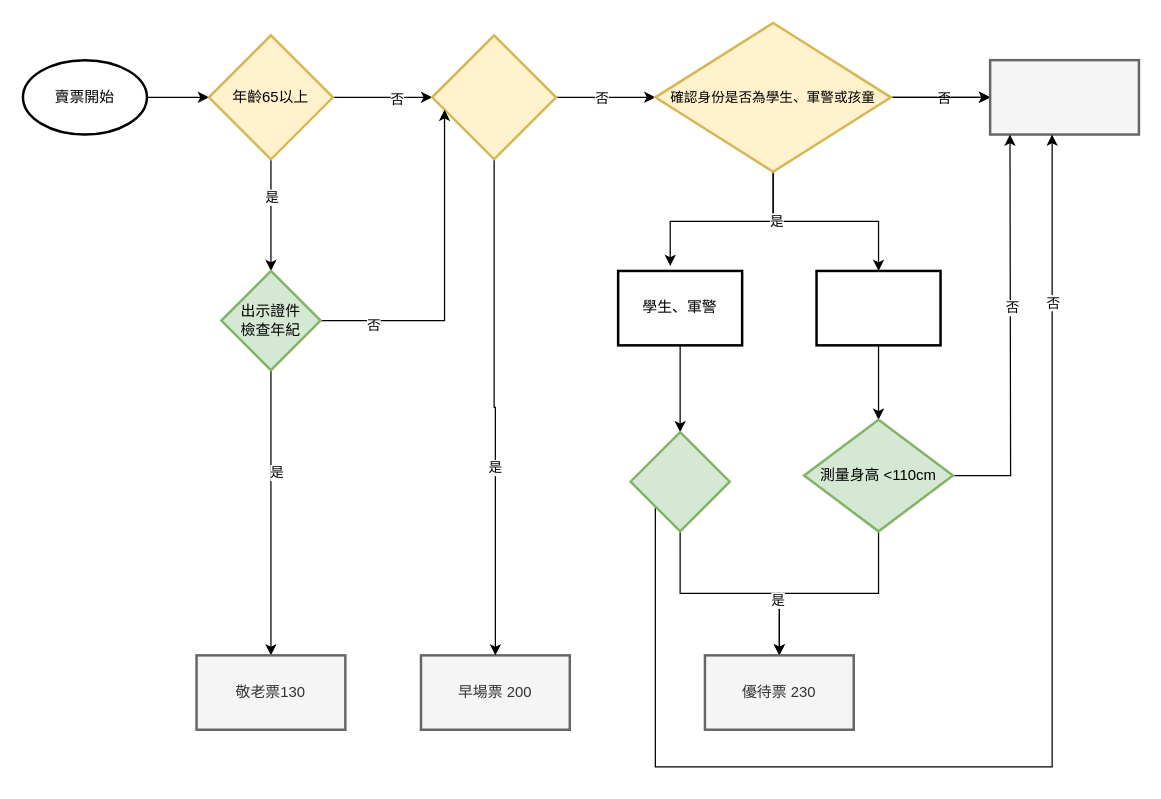
This 1161x799 diagram has some shape labels left out. Here are the shapes that lost their labels. From the top down, the centre of each, then its label:
At (x=493, y=96): "確認入場時間 中午12點".
At (x=1064, y=96): "成人票 260".
At (x=878, y=307): "孩童".
At (x=679, y=481): "出身證件 檢查身份".
